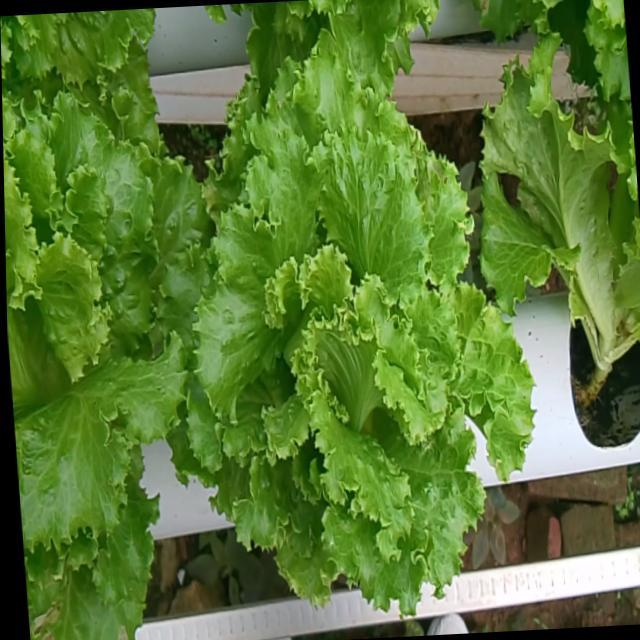Mature: (180, 67, 525, 624), (3, 102, 202, 563)
